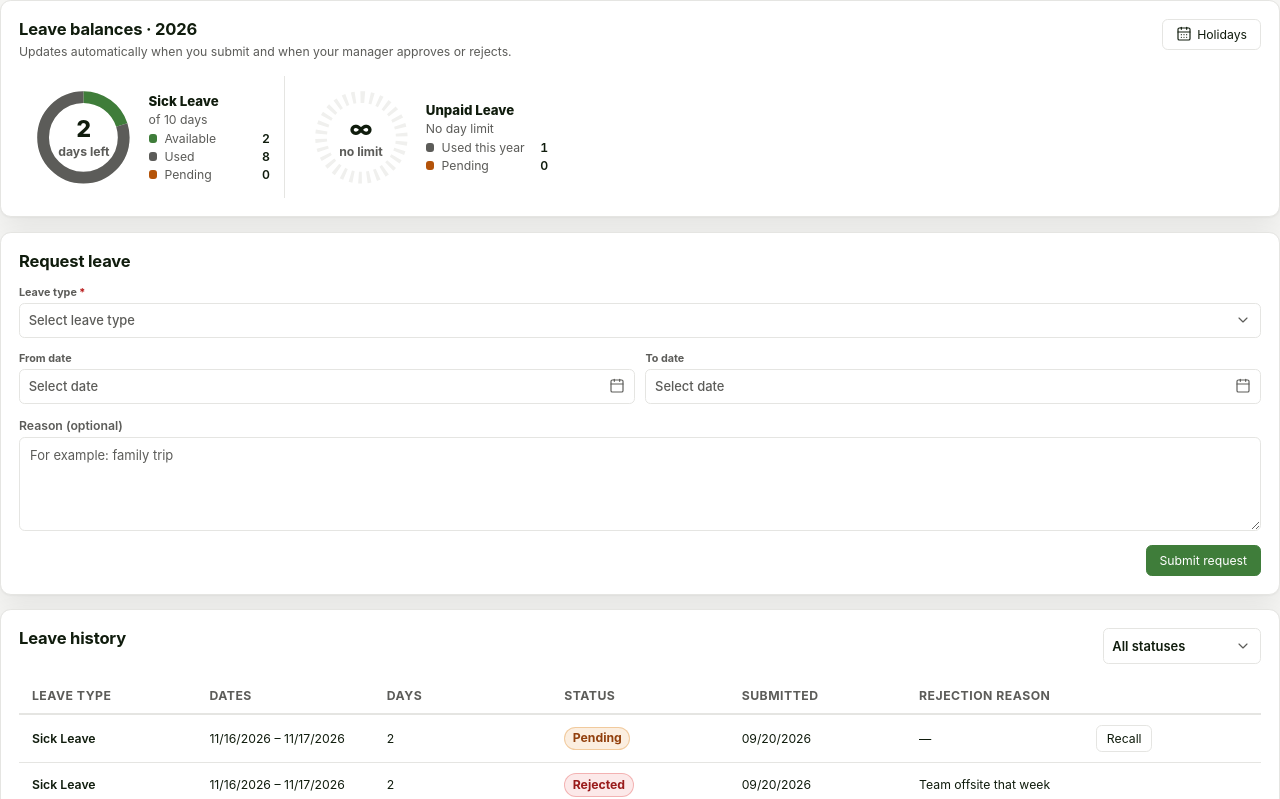
Test: LeavesWorkspace › blocks a request that double-books a day and says why
Click the dropdown labelled "leave type" at (82, 320), box x1=19 y1=302 x2=1261 y2=338
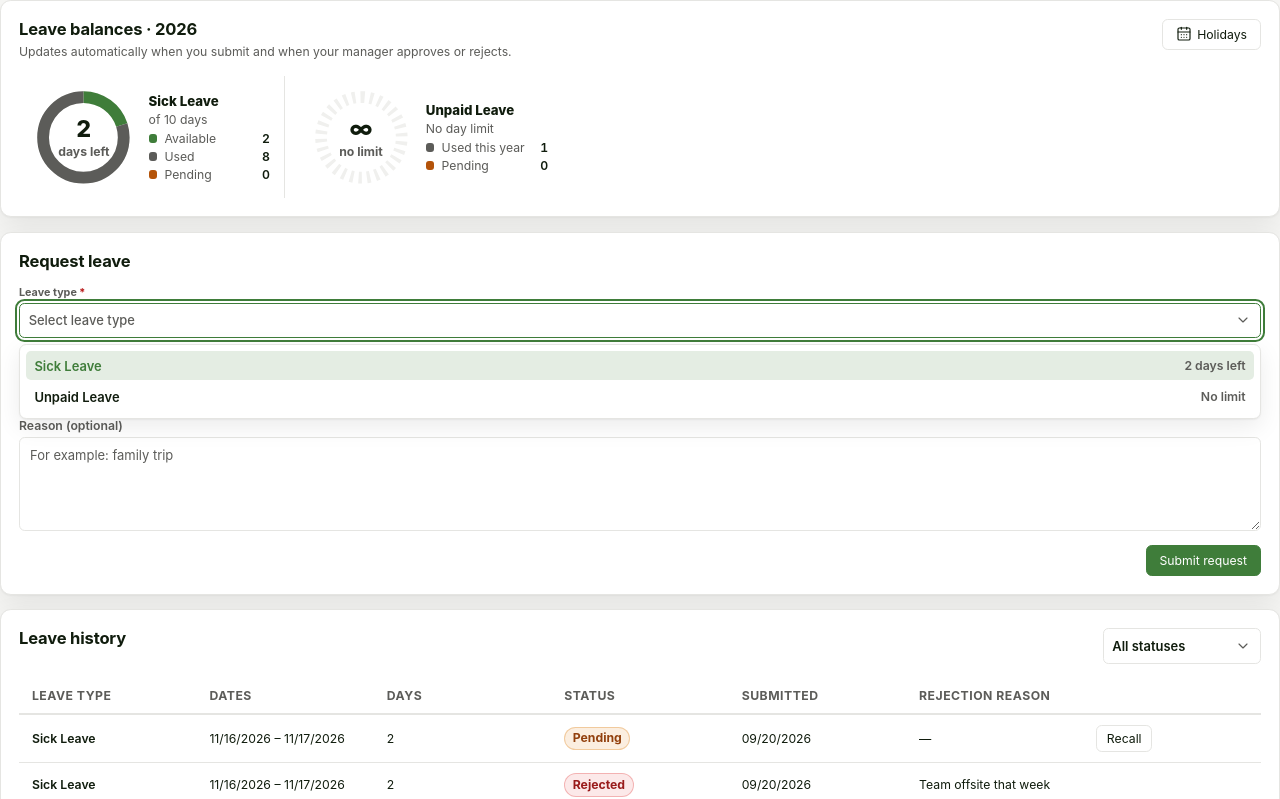
Click the option "Sick Leave 2 days left" at (68, 366), box x1=26 y1=351 x2=1254 y2=380
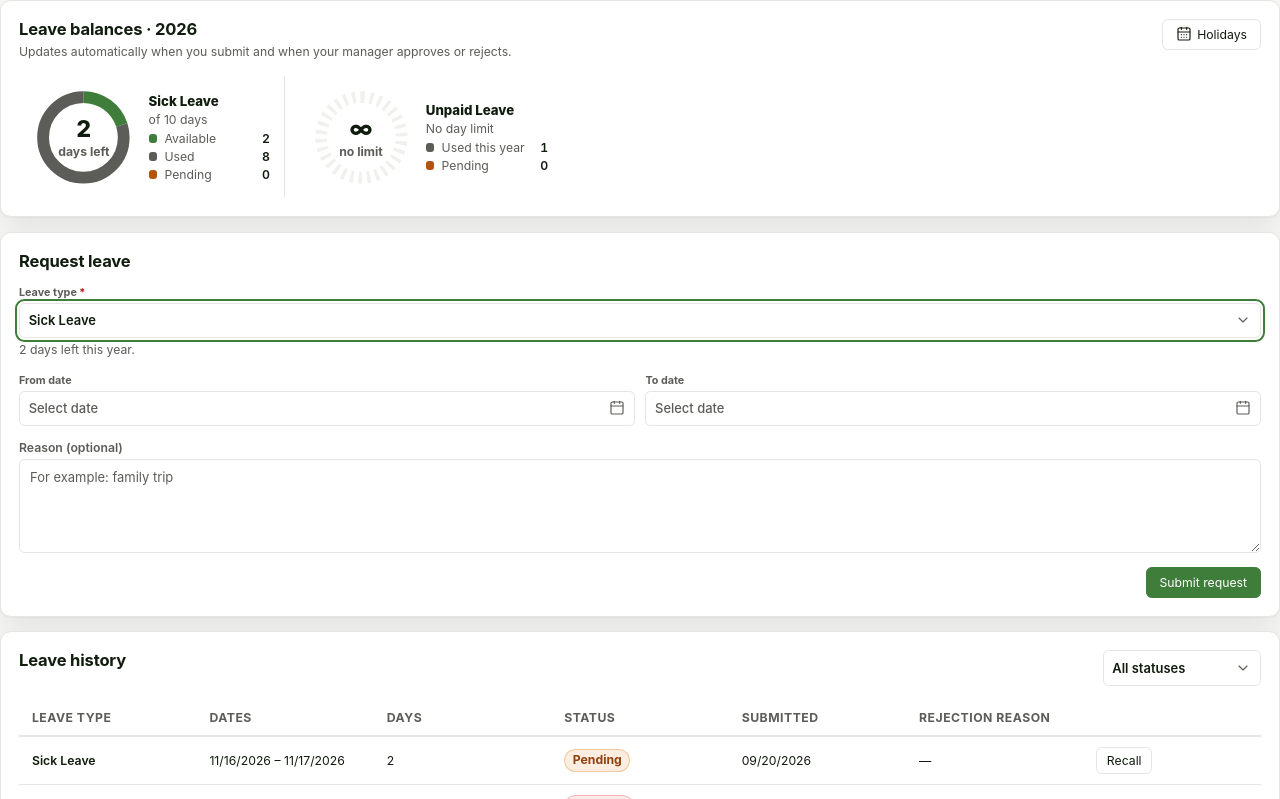
Type "2026-11-16" into the date field labelled "From date Select date" at (327, 400), box x1=19 y1=374 x2=635 y2=426
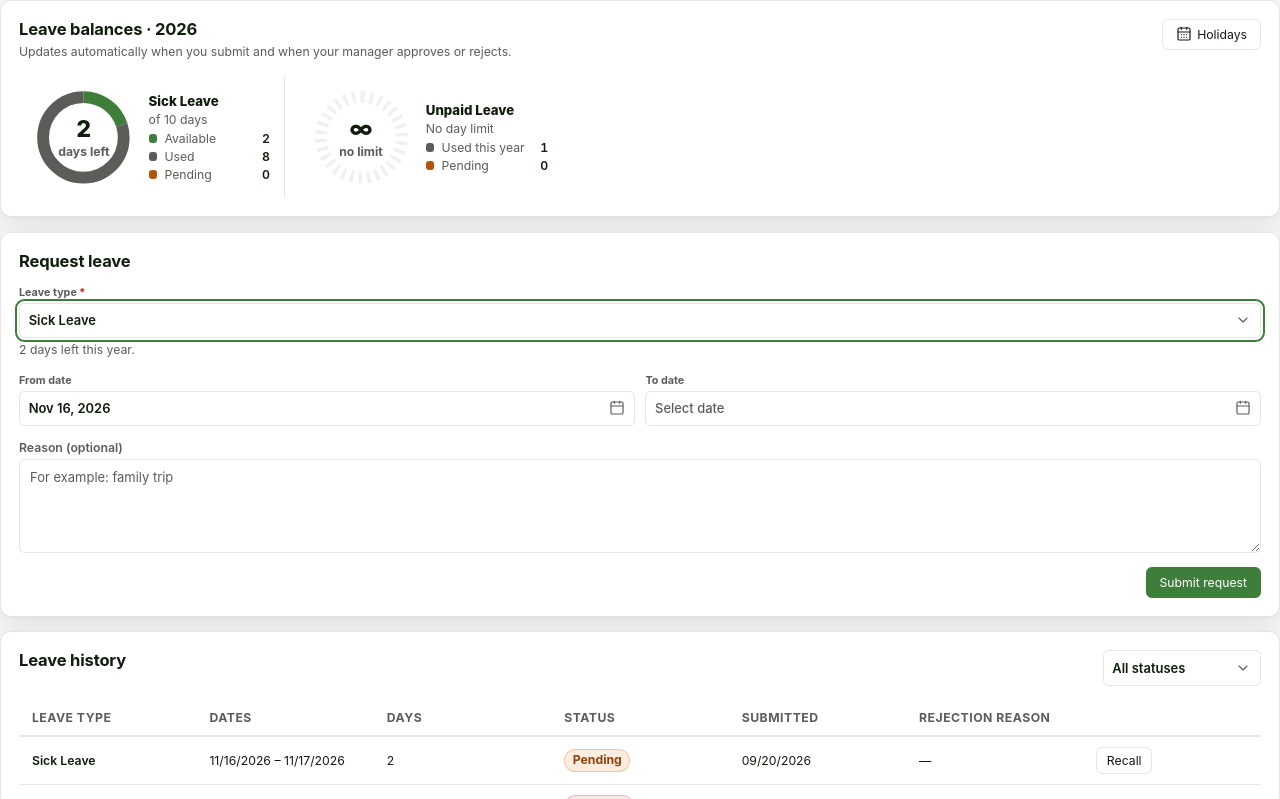
Type "2026-11-16" into the date field labelled "To date Select date" at (953, 400), box x1=645 y1=374 x2=1261 y2=426
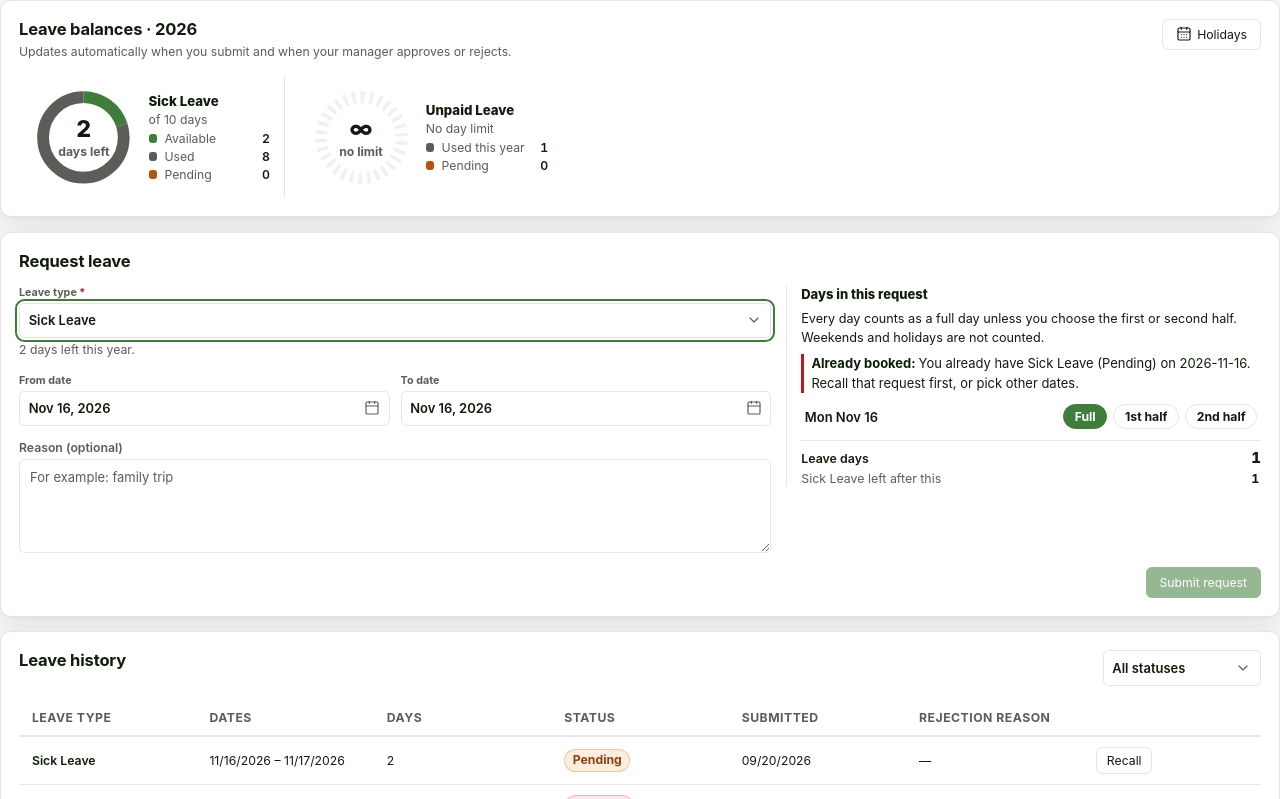
Expected: the text "Leave days" is shown, x1=801 y1=451 x2=869 y2=466
Expected: the message shows "Recall that request first", x1=811 y1=355 x2=1251 y2=391
Expected: the button "Submit request" is disabled, x1=1146 y1=567 x2=1261 y2=598
